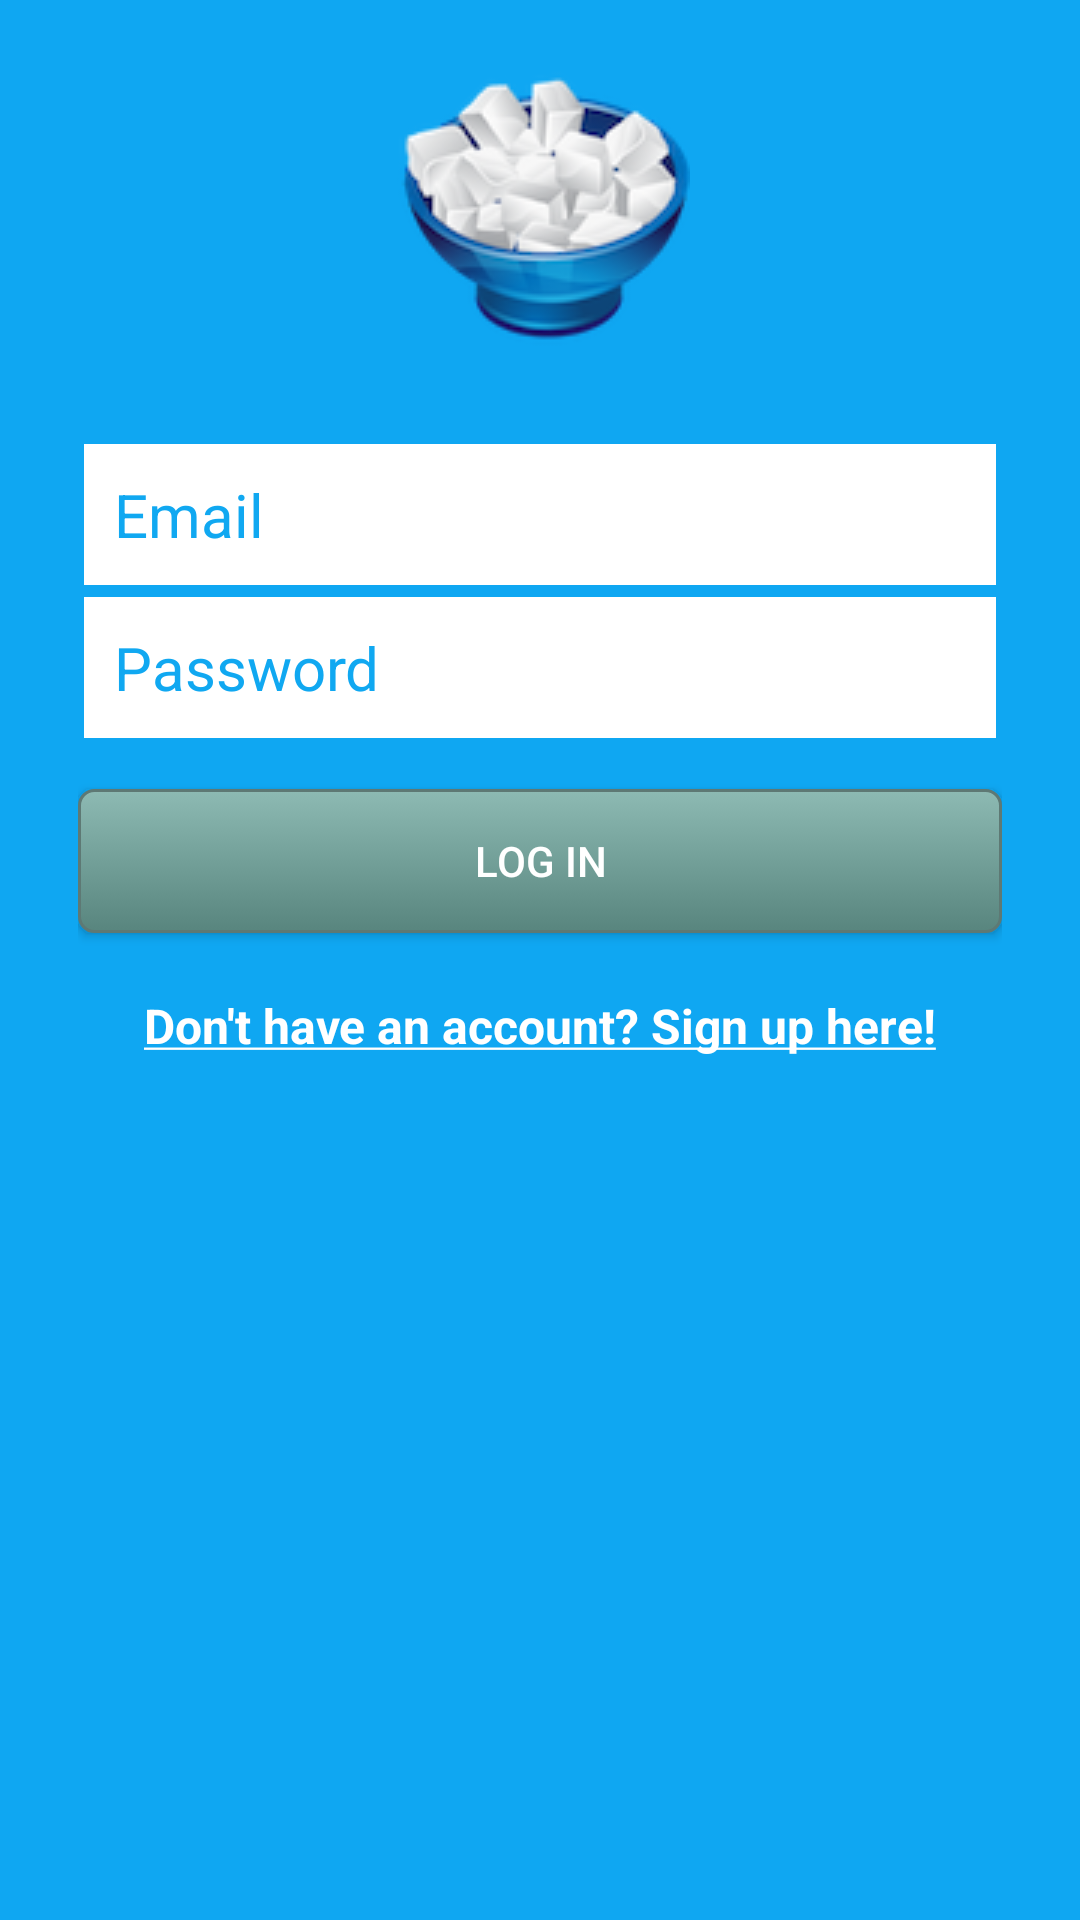

Locate icon controls on the screen. Image size 1080w x 1920h, boxes as bbox(x1, y1, x2, y2).
sugar: bbox(404, 78, 690, 339)
